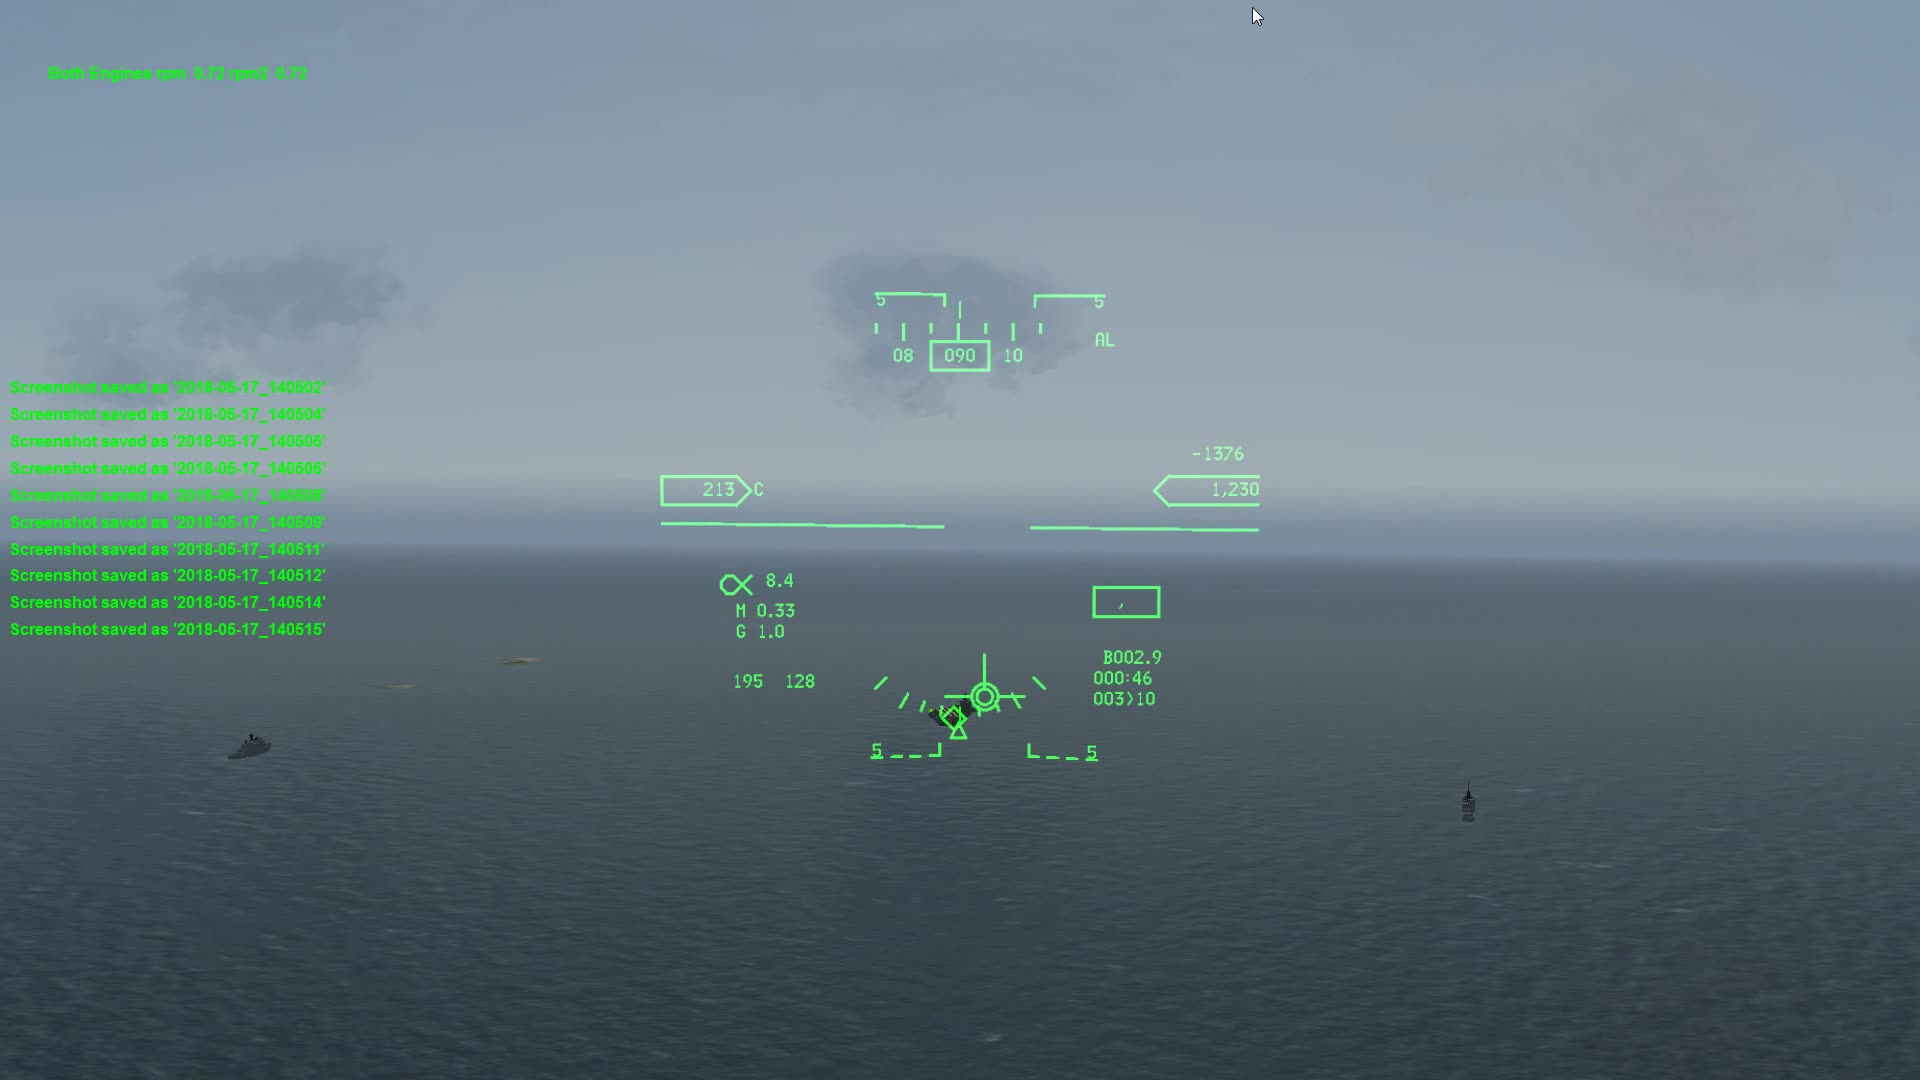speed vector: (942, 637, 1033, 716)
